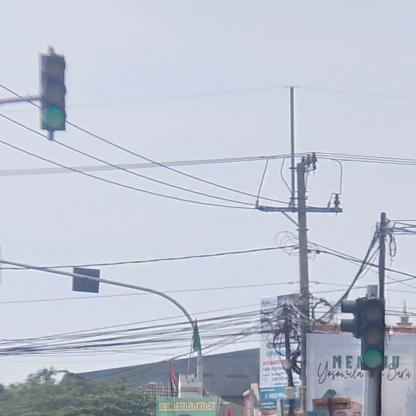green: (40, 56, 67, 134), (362, 298, 384, 372)
